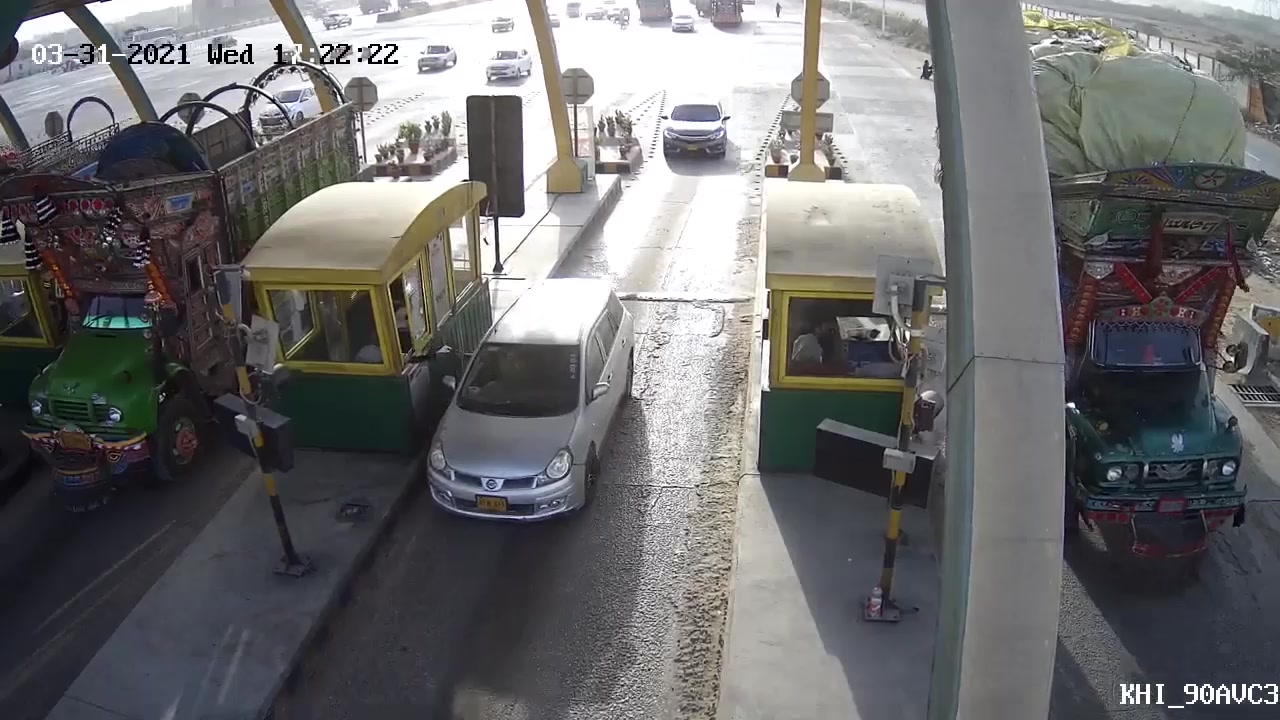F1: (413, 275, 643, 534)
